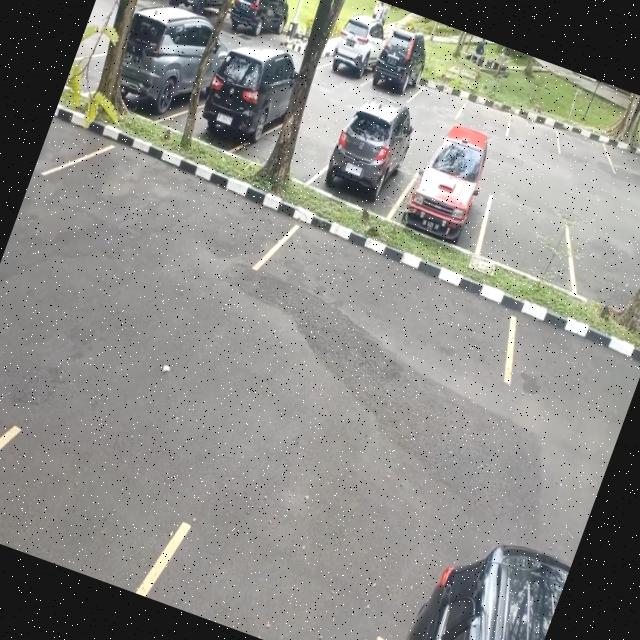empty: (260, 214, 530, 372), (53, 121, 290, 278), (470, 193, 584, 289), (557, 224, 640, 327), (552, 117, 624, 178), (503, 98, 570, 156), (408, 66, 472, 125), (458, 83, 520, 138), (603, 133, 640, 195)
occupied: (103, 3, 216, 133), (188, 38, 302, 164), (391, 140, 504, 251), (314, 112, 422, 220), (320, 8, 388, 88), (362, 29, 430, 106)
